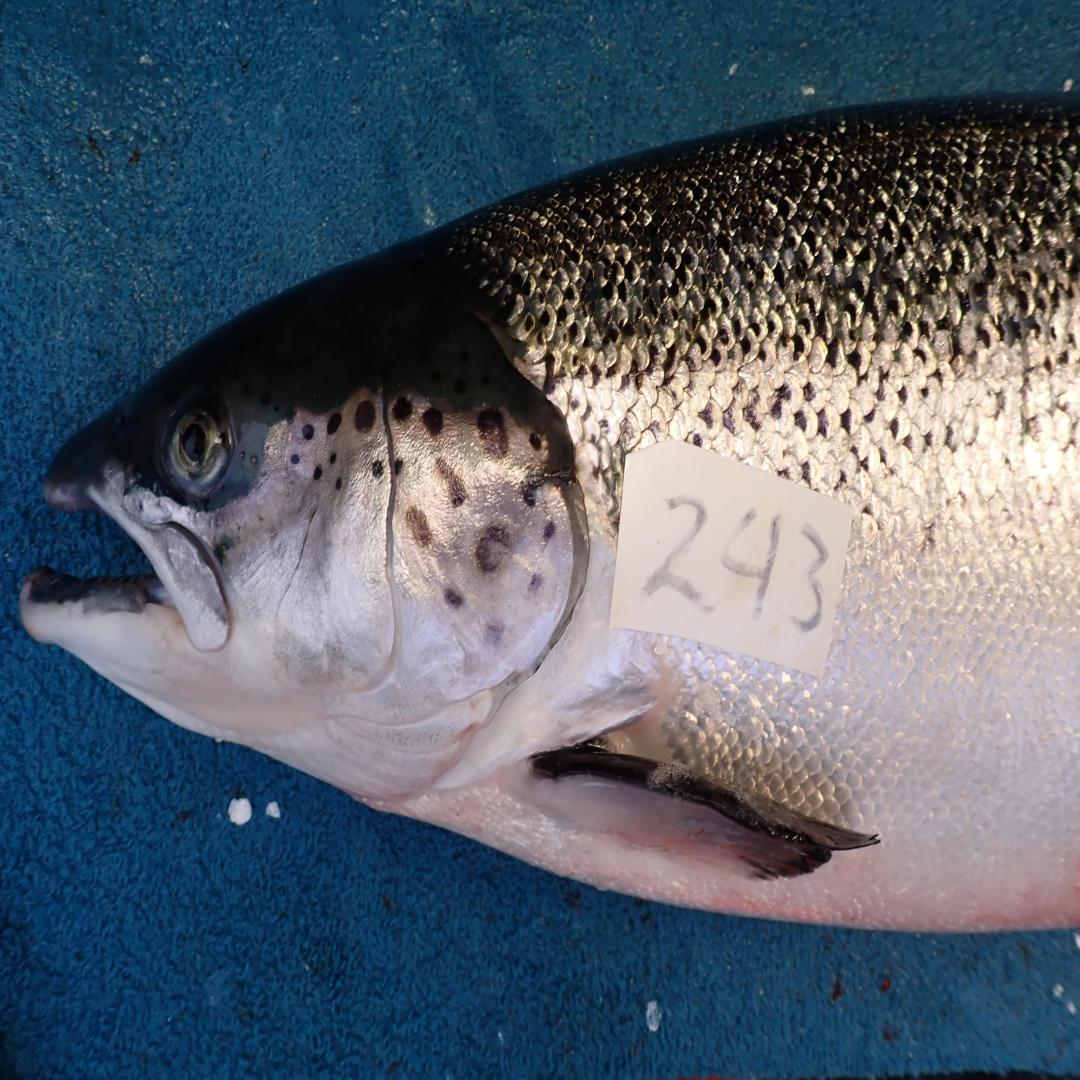spot: (475, 526, 510, 574), (477, 408, 508, 458), (437, 458, 466, 506), (405, 506, 432, 548), (521, 470, 551, 506), (354, 399, 375, 430), (422, 408, 443, 436), (483, 622, 504, 650), (392, 397, 413, 422), (443, 588, 464, 608), (542, 520, 555, 546), (327, 411, 342, 433), (527, 574, 544, 593), (529, 433, 542, 450), (372, 460, 383, 478), (302, 425, 314, 439), (394, 458, 403, 475), (289, 453, 302, 464), (314, 467, 323, 481), (335, 477, 342, 490), (329, 452, 336, 464)
